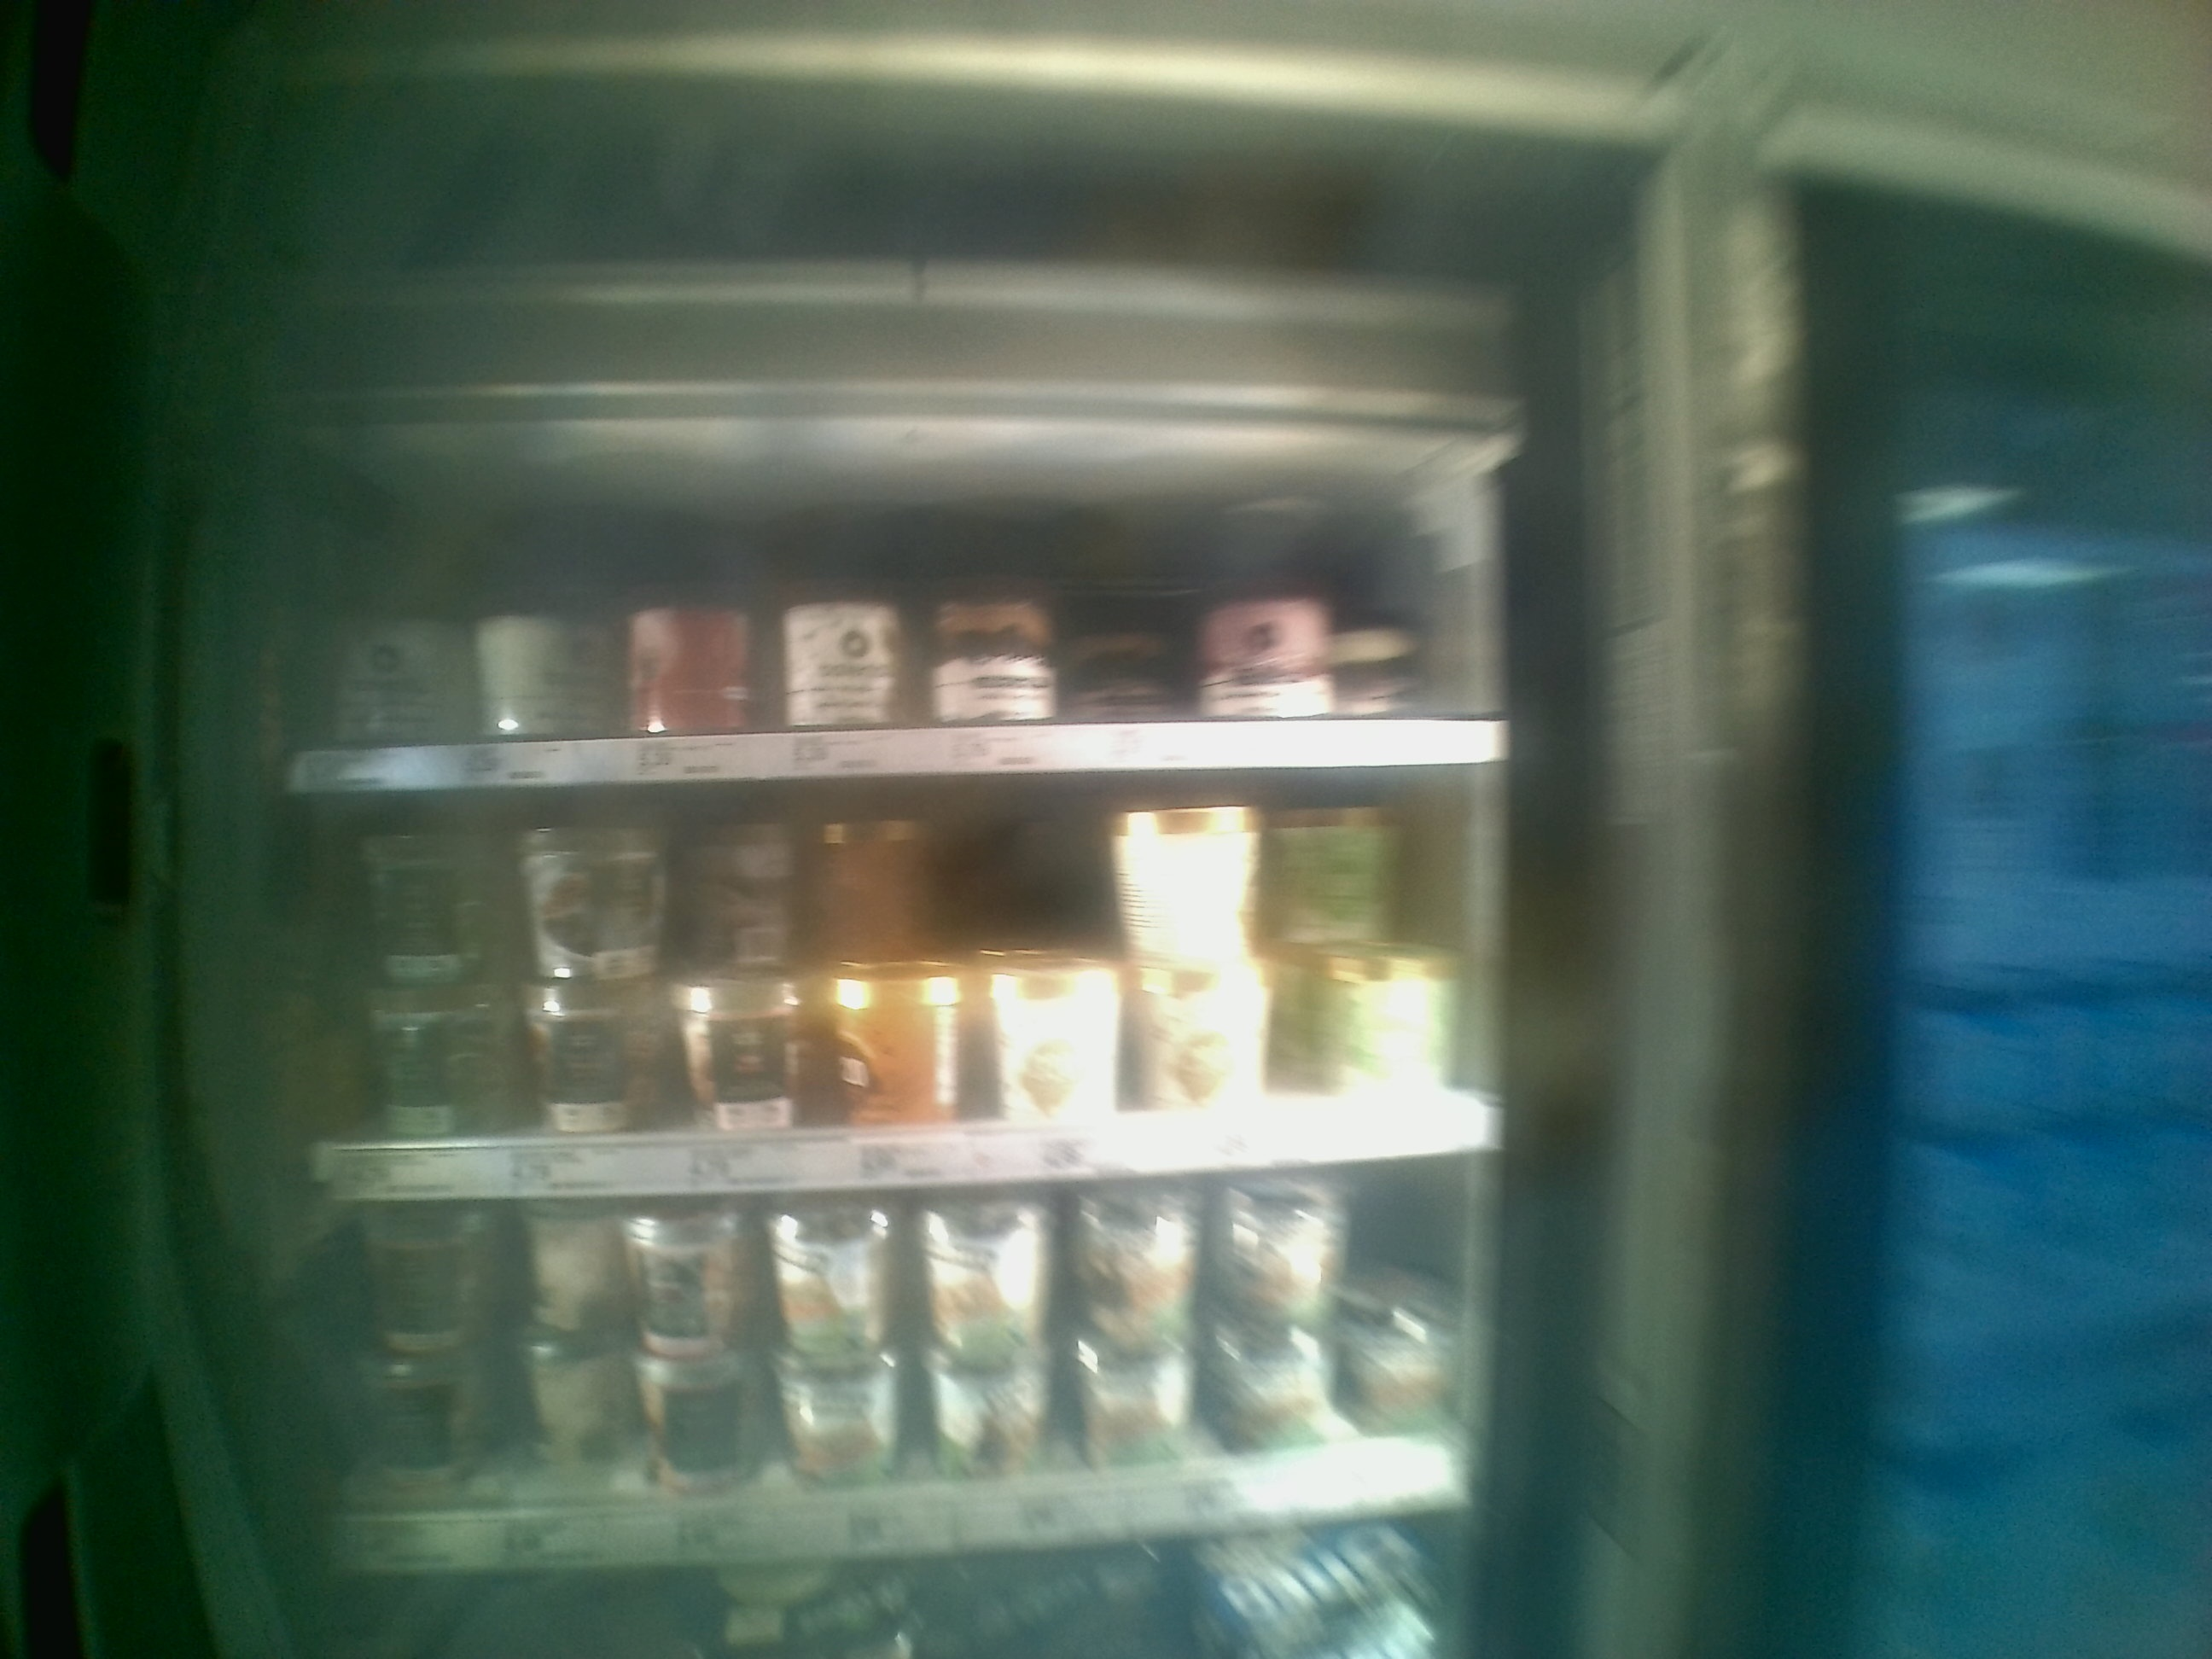ice-cream-shelf: (300, 798, 1456, 1208)
